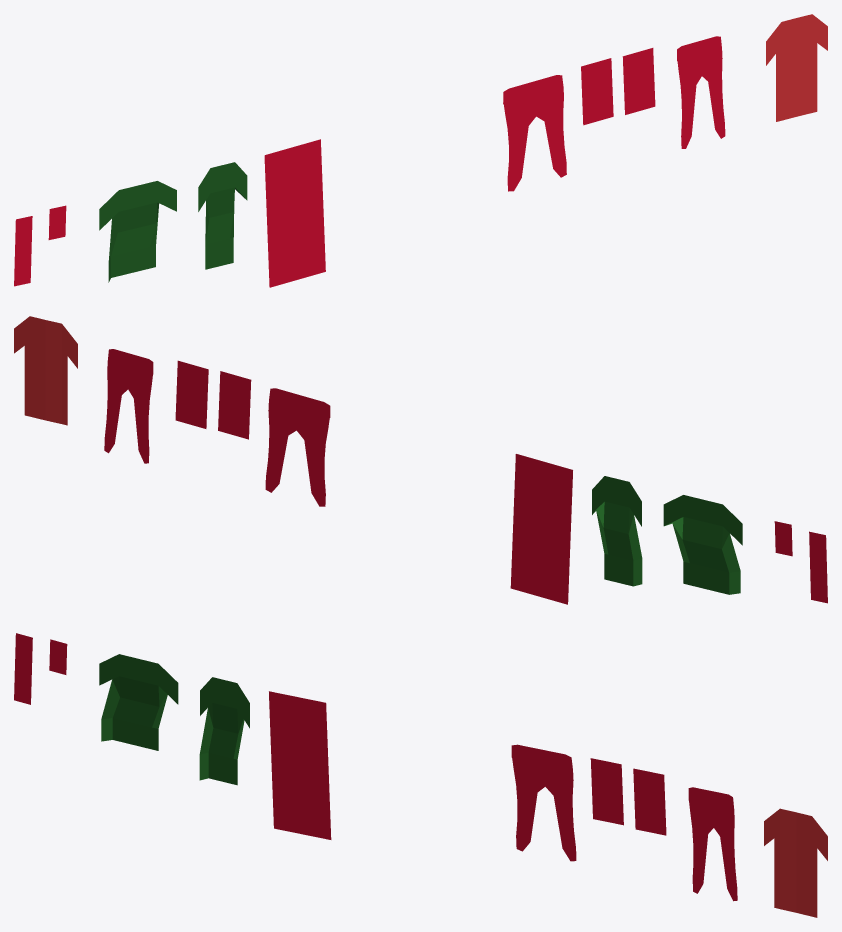
The model's file is laundry_002.glb.
The picture shows the model from 3 angles, top to bottom: view 1: azimuth 30°, elevation 25°; view 2: azimuth 150°, elevation 25°; view 3: azimuth 330°, elevation 25°; orthographic projection.
Parts seen in each view (by area): view 1: hanging_004, hanging_002, hanging_009, hanging_006, hanging_002.001, hanging_006.001, hanging_003.001, hanging_003.002, hanging_001, hanging_001.001; view 2: hanging_004, hanging_002, hanging_009, hanging_006, hanging_002.001, hanging_006.001, hanging_003.002, hanging_003.001, hanging_001, hanging_001.001; view 3: hanging_004, hanging_002, hanging_009, hanging_006, hanging_002.001, hanging_006.001, hanging_003.002, hanging_003.001, hanging_001, hanging_001.001.
Part boxes in pixels (<box>): hanging_004: <box>264,139,325,287</box>; hanging_002: <box>99,181,176,282</box>; hanging_009: <box>766,14,827,121</box>; hanging_006: <box>503,75,566,191</box>; hanging_002.001: <box>198,162,247,269</box>; hanging_006.001: <box>677,36,725,148</box>; hanging_003.001: <box>581,58,613,125</box>; hanging_003.002: <box>622,48,655,114</box>; hanging_001: <box>14,216,32,286</box>; hanging_001.001: <box>48,205,66,239</box>; hanging_004: <box>510,454,572,604</box>; hanging_002: <box>663,495,742,594</box>; hanging_009: <box>14,316,77,425</box>; hanging_006: <box>265,388,330,506</box>; hanging_002.001: <box>592,476,642,586</box>; hanging_006.001: <box>104,349,153,463</box>; hanging_003.002: <box>175,360,208,428</box>; hanging_003.001: <box>218,371,251,439</box>; hanging_001: <box>809,531,827,603</box>; hanging_001.001: <box>774,521,792,556</box>; hanging_004: <box>269,691,331,839</box>; hanging_002: <box>99,654,178,750</box>; hanging_009: <box>764,808,827,917</box>; hanging_006: <box>511,744,576,861</box>; hanging_002.001: <box>199,677,249,785</box>; hanging_006.001: <box>688,787,737,901</box>; hanging_003.002: <box>633,768,666,835</box>; hanging_003.001: <box>590,758,623,825</box>; hanging_001: <box>14,633,32,704</box>; hanging_001.001: <box>49,639,67,674</box>.
Bounding box in the file's own units: 12.61 × 2.21 × 0.2974.
